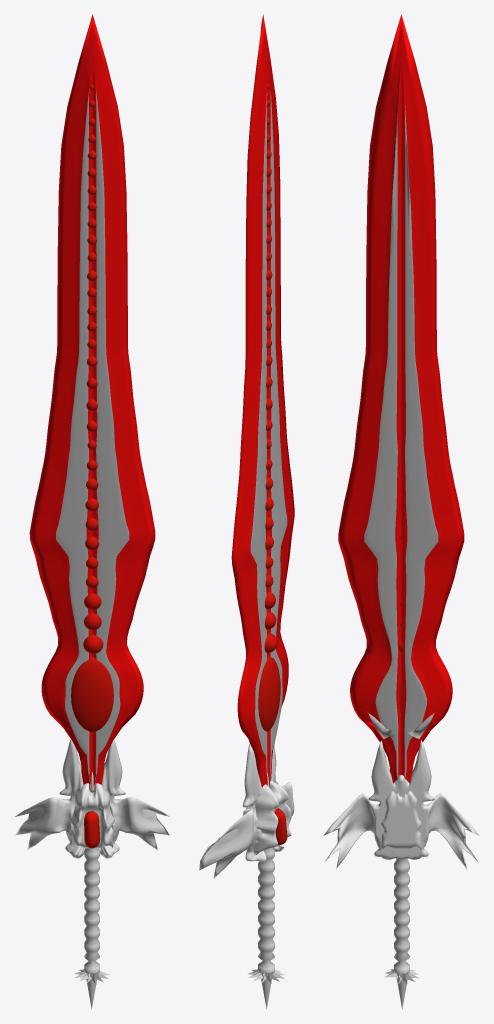
Rendered from gundam_sword.FBX.
3 views of the same model, side by side, from view 1: azimuth 90°, elevation 25°; view 2: azimuth 150°, elevation 25°; view 3: azimuth 270°, elevation 25° (orthographic).
Parts seen in each view (by area): view 1: Box03, Box02, Sphere01, Cylinder01, Box01, Capsule01; view 2: Box03, Box02, Cylinder01, Box01, Sphere01, Capsule01; view 3: Box03, Box02, Box01, Cylinder01.
Boxes of the visible parts, left/top/right/bottom form: Box03: left=29, top=14, right=155, bottom=792; Box02: left=15, top=739, right=169, bottom=858; Sphere01: left=71, top=656, right=113, bottom=732; Cylinder01: left=74, top=848, right=109, bottom=983; Box01: left=70, top=783, right=114, bottom=848; Capsule01: left=84, top=811, right=100, bottom=848; Box03: left=231, top=14, right=294, bottom=787; Box02: left=199, top=743, right=294, bottom=878; Cylinder01: left=247, top=847, right=285, bottom=983; Box01: left=246, top=781, right=291, bottom=855; Sphere01: left=258, top=656, right=280, bottom=731; Capsule01: left=274, top=808, right=287, bottom=845; Box03: left=338, top=14, right=464, bottom=783; Box02: left=323, top=740, right=479, bottom=869; Box01: left=381, top=791, right=421, bottom=850; Cylinder01: left=384, top=858, right=419, bottom=984.
Bounding box in the file's own units: 39.28 × 728 × 104.
